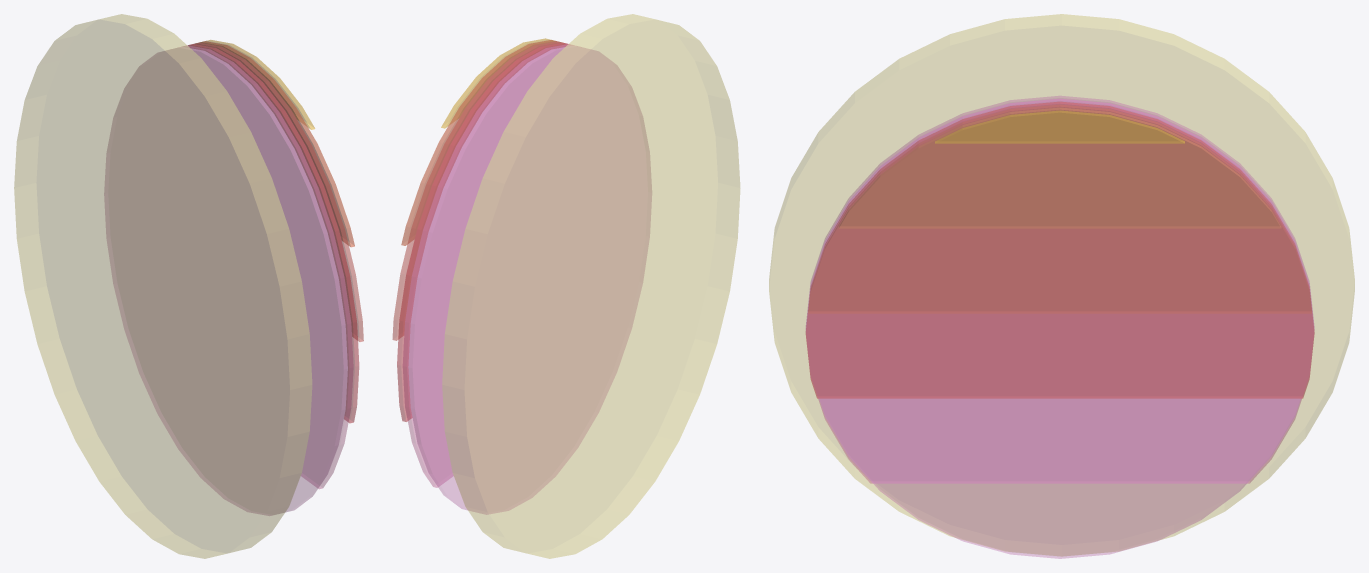
Rendered from retroSun.glb.
3 renders of one model, left to right at view 1: azimuth 30°, elevation 25°; view 2: azimuth 150°, elevation 25°; view 3: azimuth 270°, elevation 25°, orthographic. The views are drawn at different scales.
Visible parts, largest first — view 1: Cylinder.001, Cylinder.006, Cylinder.005, Cylinder.004, Cylinder.003, Cylinder.002, Cylinder; view 2: Cylinder.001, Cylinder.006, Cylinder.005, Cylinder.004, Cylinder.003, Cylinder.002, Cylinder; view 3: Cylinder.004, Cylinder.001, Cylinder.005, Cylinder.003, Cylinder.006, Cylinder.002, Cylinder.
Boxes of the visible parts, x1,y1,x2,y2 form: Cylinder.001: (14,14,311,558); Cylinder.006: (104,47,347,515); Cylinder.005: (183,45,353,488); Cylinder.004: (188,44,359,423); Cylinder.003: (189,42,363,341); Cylinder.002: (195,41,354,247); Cylinder: (201,40,314,129); Cylinder.001: (442,14,740,558); Cylinder.006: (408,46,651,514); Cylinder.005: (403,44,572,487); Cylinder.004: (397,42,567,421); Cylinder.003: (392,41,566,340); Cylinder.002: (401,40,561,245); Cylinder: (441,38,553,128); Cylinder.004: (805,101,1314,398); Cylinder.001: (769,14,1354,556); Cylinder.005: (806,99,1314,483); Cylinder.003: (808,104,1311,313); Cylinder.006: (806,96,1314,558); Cylinder.002: (839,107,1281,228); Cylinder: (935,110,1184,143).
Bounding box in the file's own units: 6.59 × 30.39 × 30.39.
